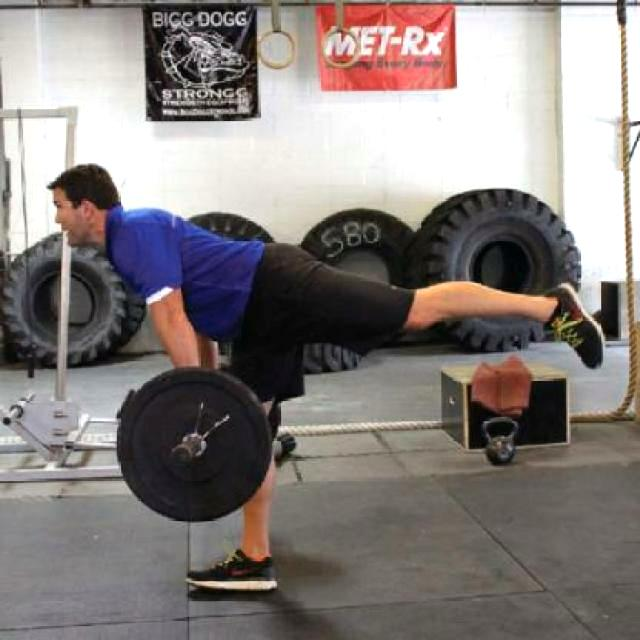barbell: (108, 362, 282, 527)
